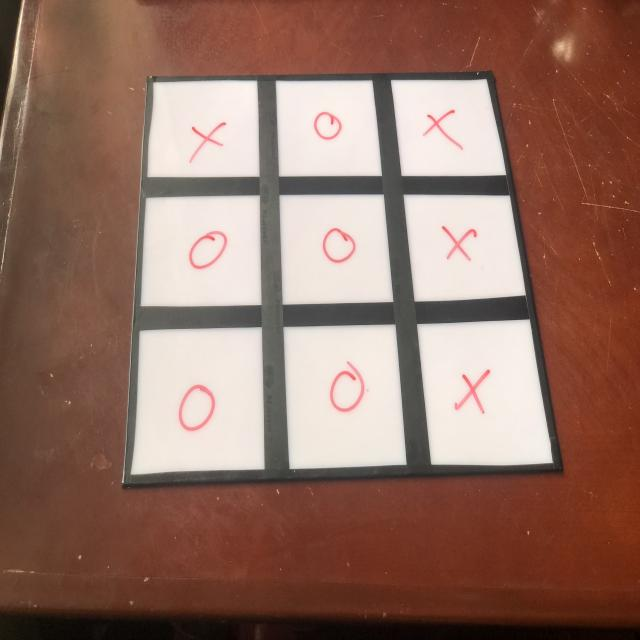o: (176, 379, 216, 436), (185, 227, 231, 275), (330, 363, 368, 417), (322, 223, 359, 268), (311, 103, 344, 143)
table: (113, 67, 563, 484)
x: (449, 365, 496, 420), (420, 100, 465, 156), (191, 114, 226, 161), (439, 227, 479, 266)
